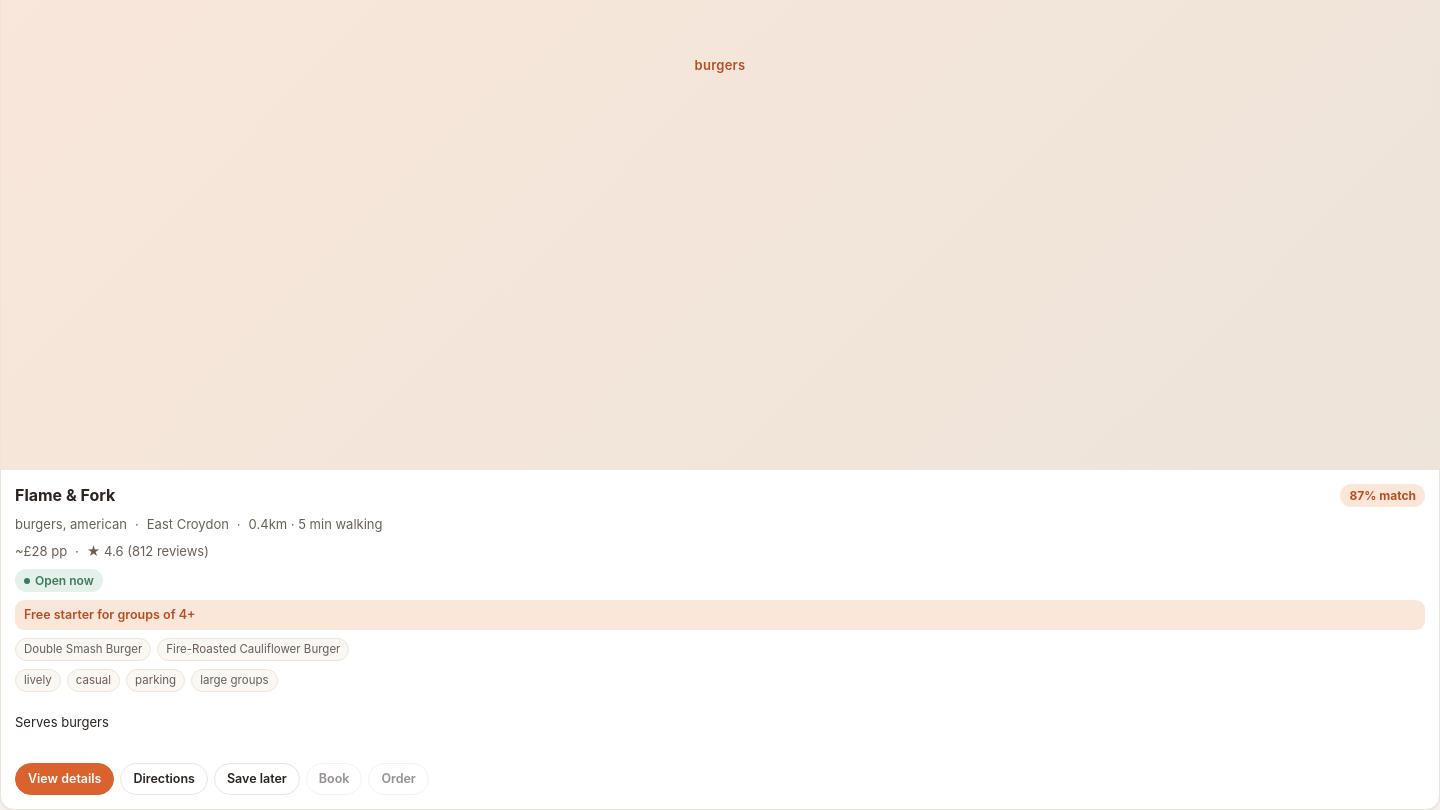
RestaurantCard › expands to show extra details only after 'View details' is clicked
(page scrolled)
Click the button "View details": (65, 779) 15,763 -> 114,795
(page scrolled)
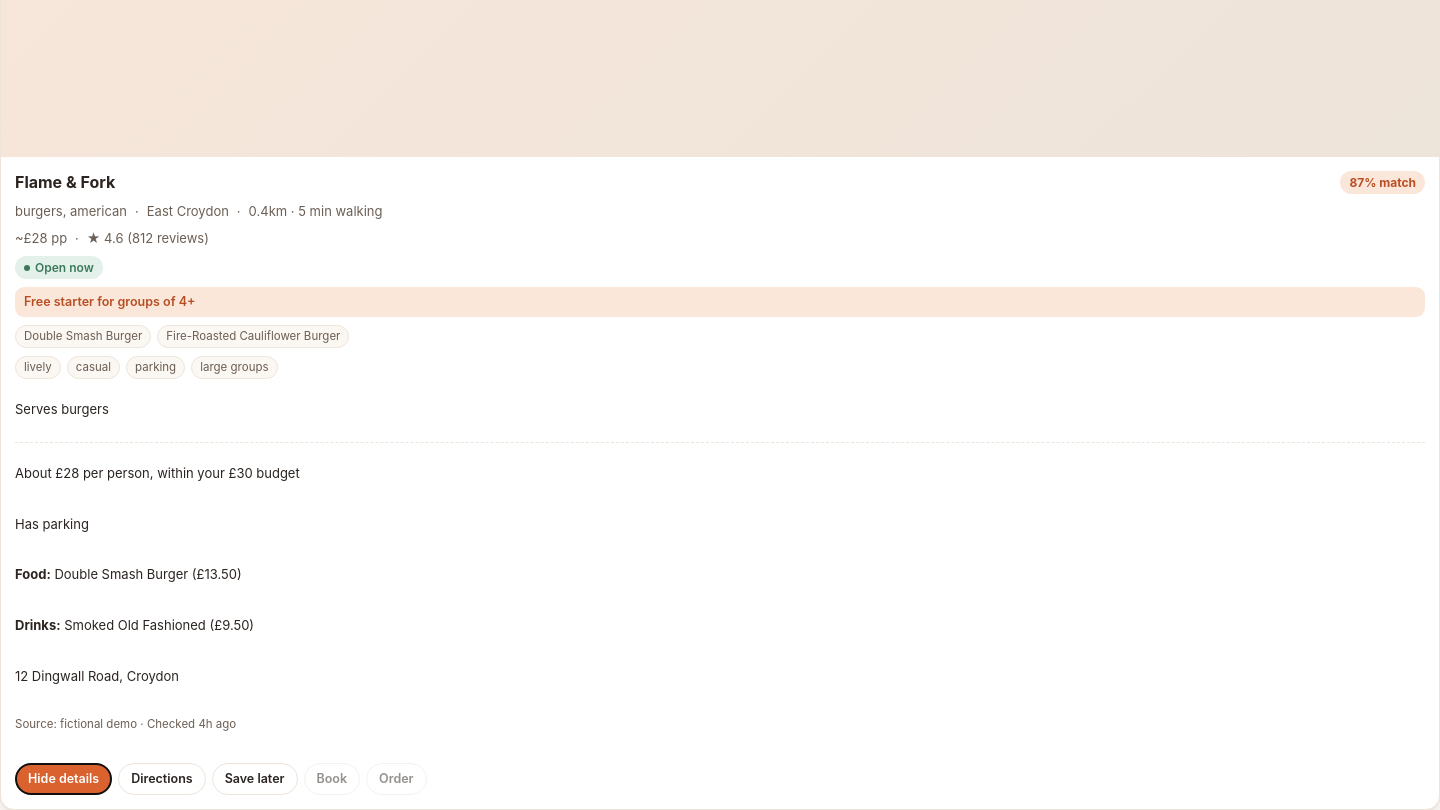
Now the element with test id "restaurant-card-details" is shown, box 15,442 -> 1425,745
Now the text "12 Dingwall Road, Croydon" is shown, box 15,668 -> 179,684
Click the button "Hide details": (64, 779) 15,762 -> 112,795
(page scrolled)
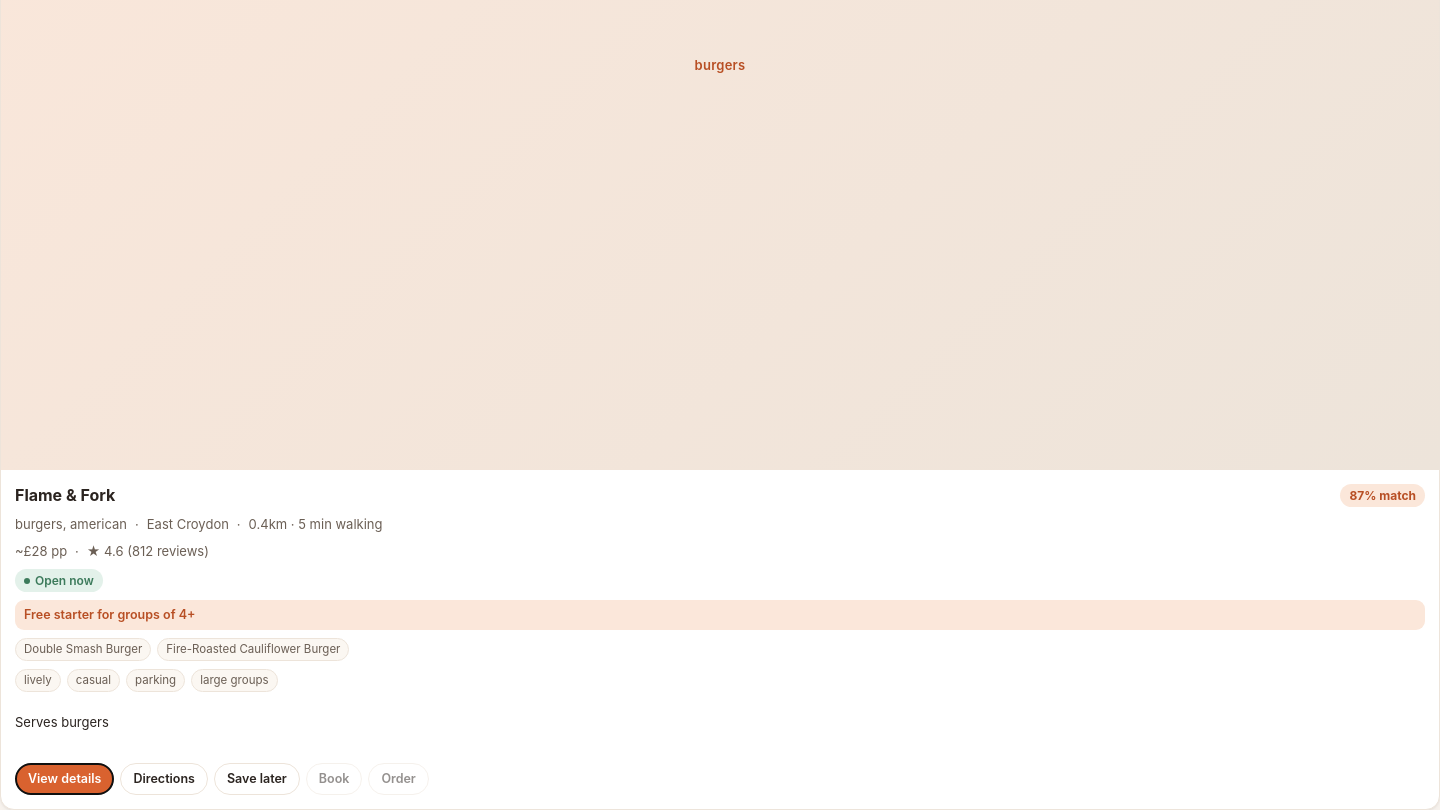
Now the element with test id "restaurant-card-details" is gone
